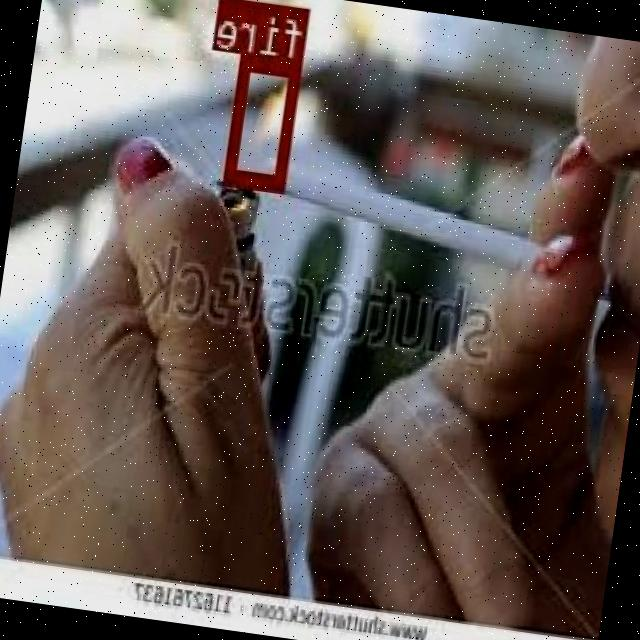fire: (227, 54, 304, 190)
